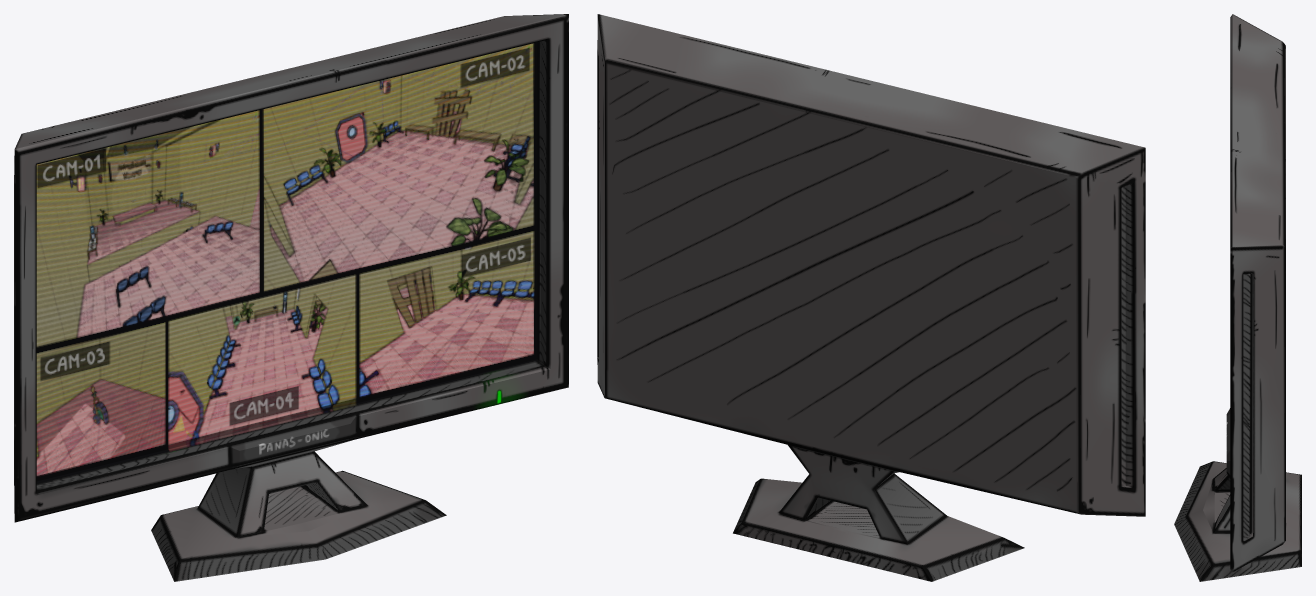
Rendered from mshSecurityScreen.fbx.
The picture shows the model from 3 angles, left to right: view 1: azimuth 30°, elevation 25°; view 2: azimuth 150°, elevation 25°; view 3: azimuth 270°, elevation 25°; orthographic projection. The views are drawn at different scales.
Visible parts, largest first — view 1: TV_3; view 2: TV_3; view 3: TV_3.
Part boxes in pixels (bbox=[...]): TV_3: bbox=[14, 14, 568, 581]; TV_3: bbox=[597, 14, 1145, 581]; TV_3: bbox=[1174, 14, 1301, 581].
Bounding box in the file's own units: 7.33 × 5.73 × 1.69.
